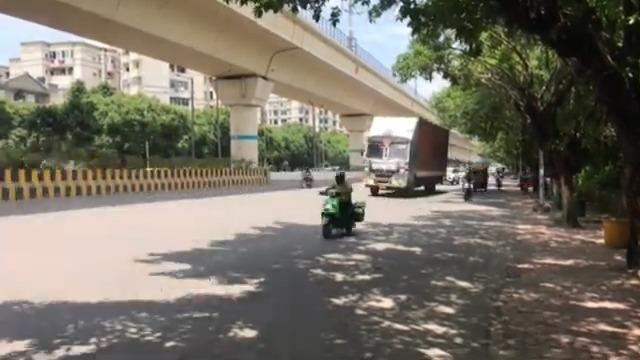Bike: (318, 169, 366, 239), (460, 167, 475, 203), (300, 159, 313, 188)
Bus: (363, 134, 411, 180)
Truck: (361, 115, 448, 196)
